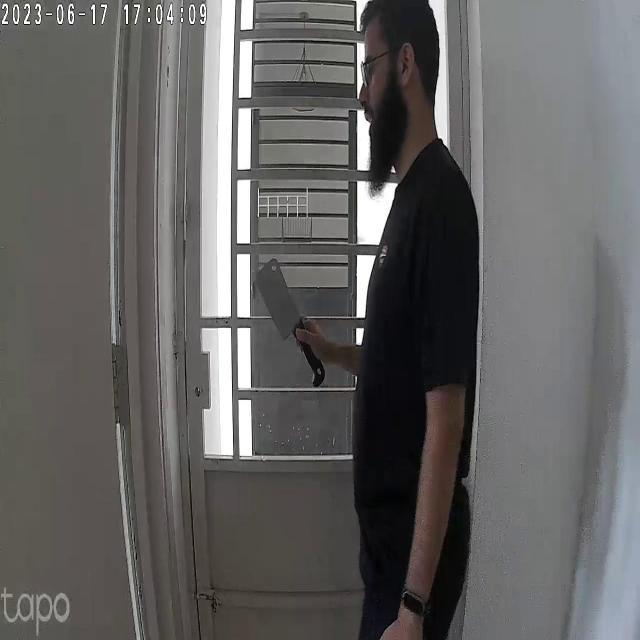Knife: (251, 252, 332, 386)
